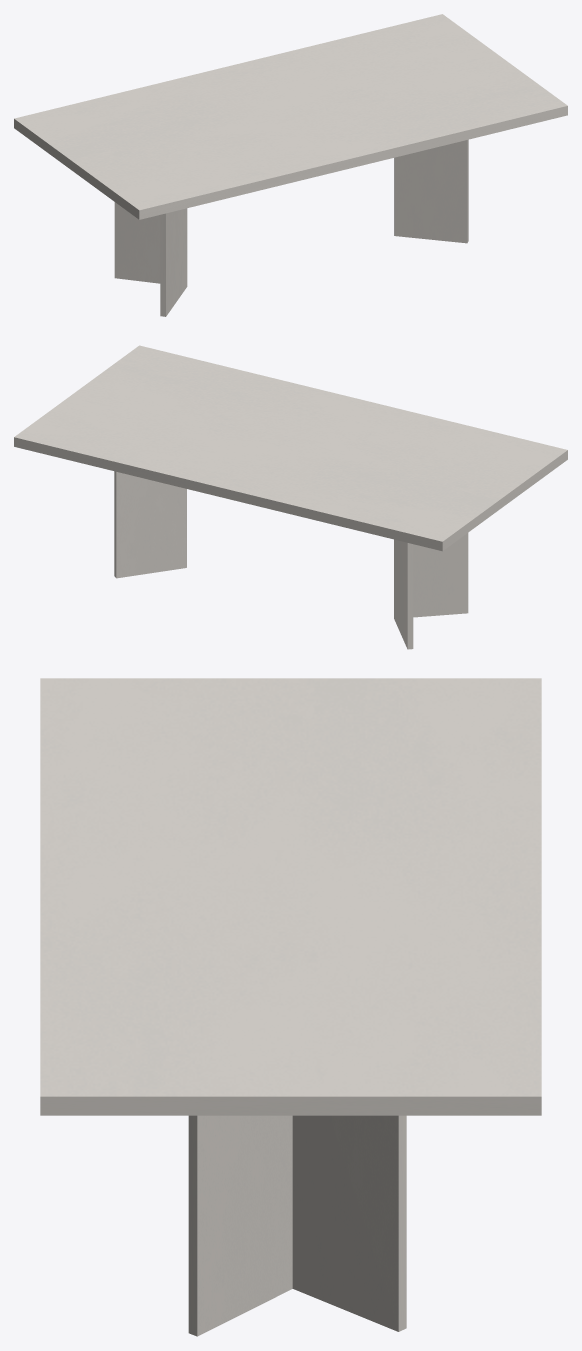
File: pearlwhite_recta_standard_valleyv.glb
3 renders of one model, top to bottom at view 1: azimuth 30°, elevation 25°; view 2: azimuth 150°, elevation 25°; view 3: azimuth 270°, elevation 25°, orthographic. The views are drawn at different scales.
Visible parts, largest first — view 1: standard_recta, valleyv; view 2: standard_recta, valleyv; view 3: standard_recta, valleyv.
Boxes of the visible parts, x1,y1,x2,y2 form: standard_recta: (14,14,567,219); valleyv: (114,139,468,316); standard_recta: (14,345,567,551); valleyv: (114,471,468,649); standard_recta: (40,678,541,1115); valleyv: (188,1115,406,1336).
Bounding box in the file's own units: 7.5 × 2.5 × 3.8.
1 material, 1 textured.
